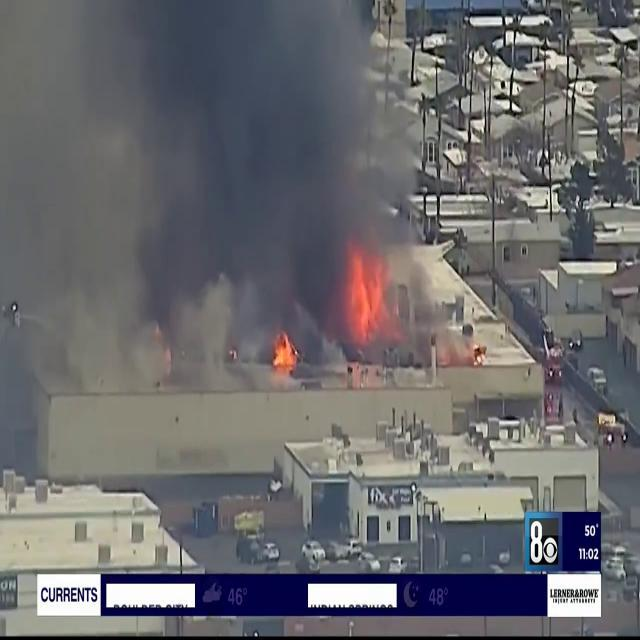Fire: (338, 244, 392, 341), (270, 324, 299, 376)
Smoke: (0, 1, 422, 342)
